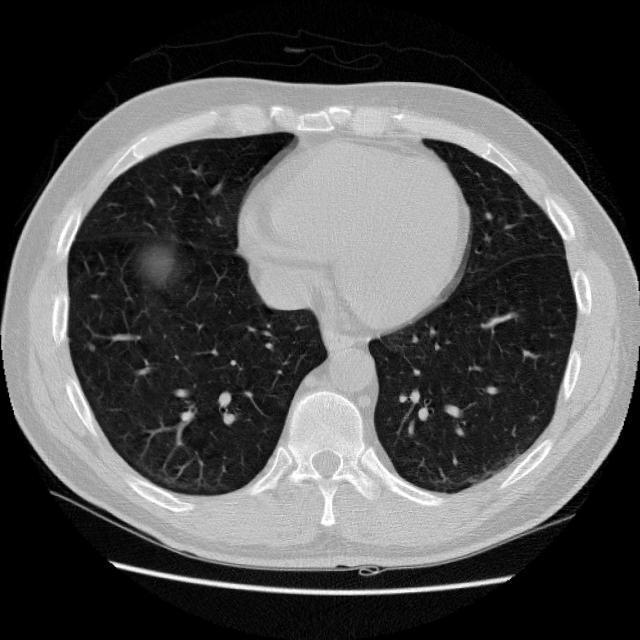nodule: (80, 335, 100, 355)
